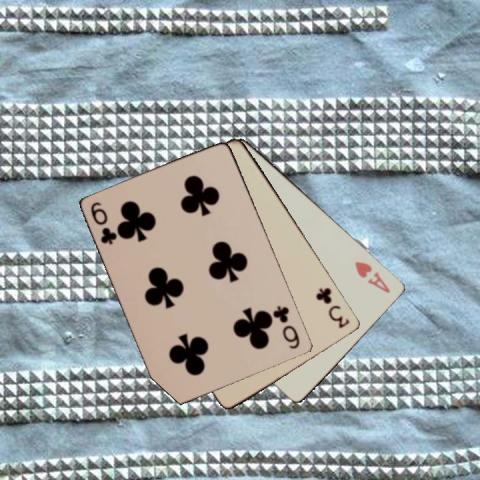3c: (313, 285, 351, 330)
6c: (271, 302, 302, 350), (88, 198, 119, 246)
Ah: (352, 258, 393, 295)
